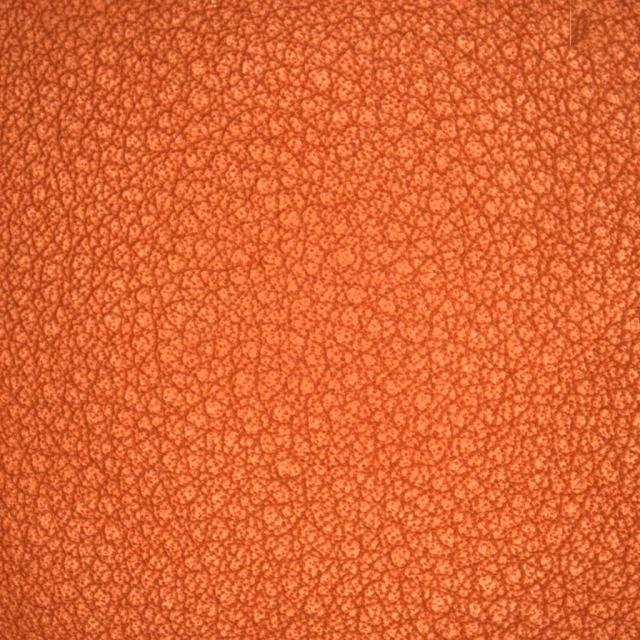Healed Injury: (506, 6, 619, 165)
